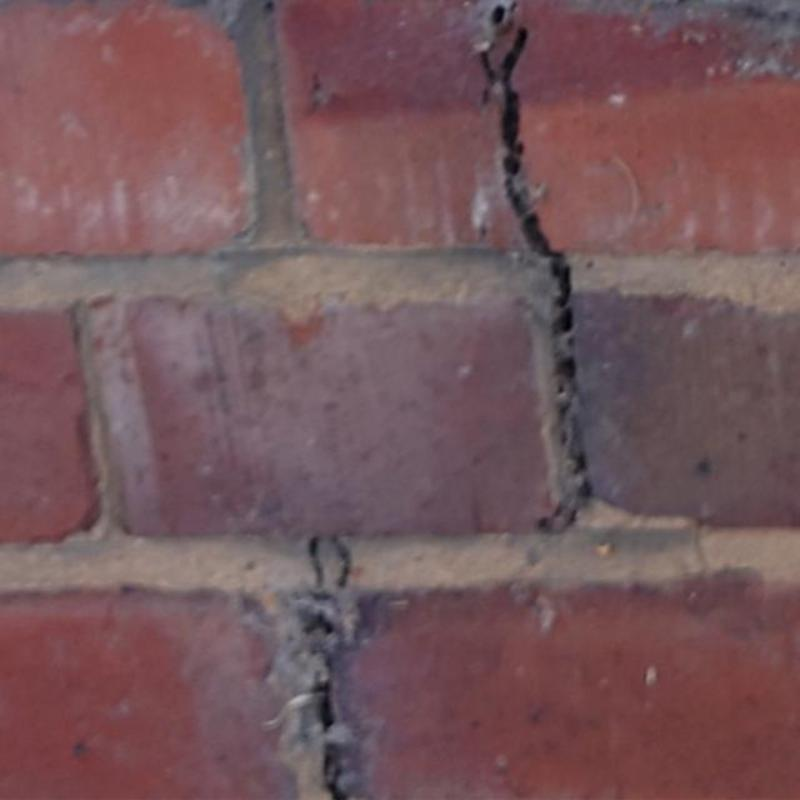pothole: (475, 0, 589, 531), (291, 538, 364, 800)
